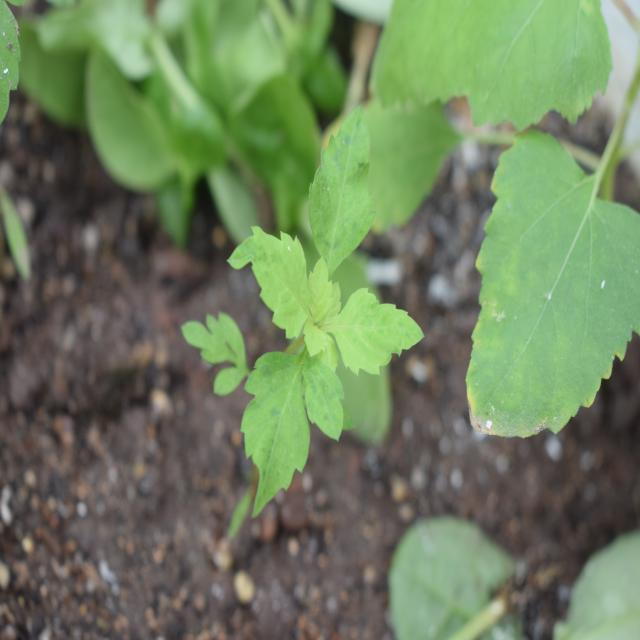Bidens pilosa: (176, 124, 430, 505)
